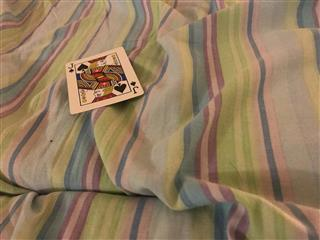JackOfSpades: (64, 46, 145, 115)
